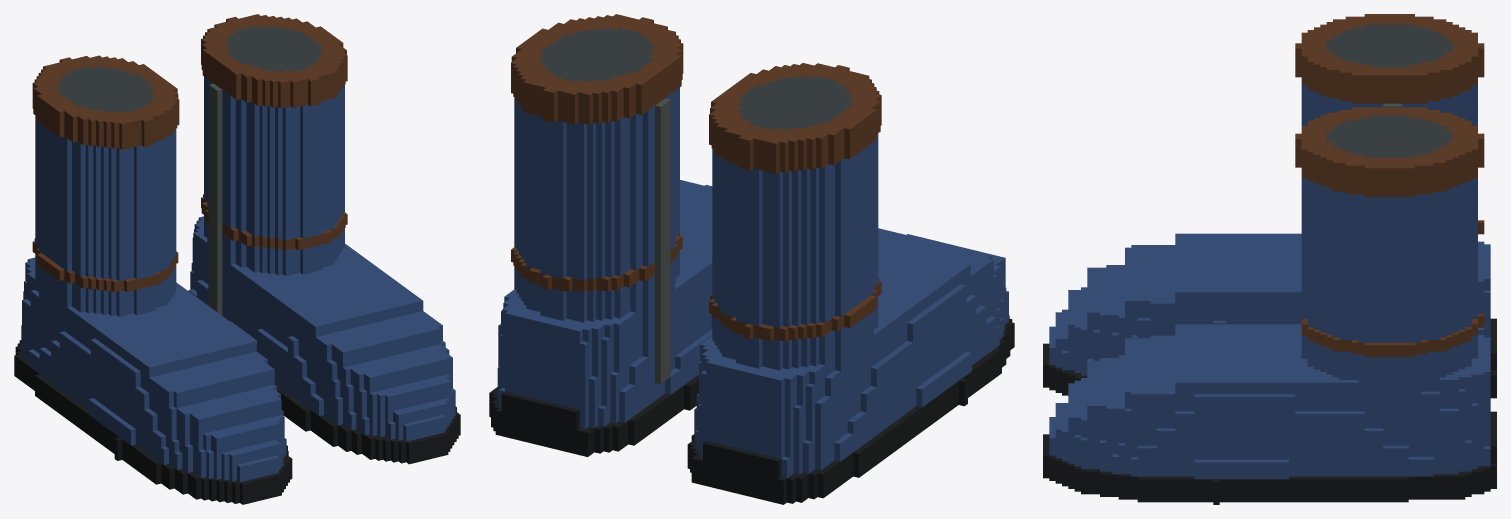
File: boots_denim.glb
3 views of the same model, side by side, from view 1: azimuth 30°, elevation 25°; view 2: azimuth 150°, elevation 25°; view 3: azimuth 270°, elevation 25° (orthographic). The views are drawn at different scales.
Visible parts, largest first — view 1: boots_denim:compound; view 2: boots_denim:compound; view 3: boots_denim:compound.
Boxes of the visible parts, <box> form: boots_denim:compound: <box>14,14,460,504</box>; boots_denim:compound: <box>489,14,1014,504</box>; boots_denim:compound: <box>1043,14,1496,504</box>.
Bounding box in the file's own units: 0.248 × 0.232 × 0.288.
